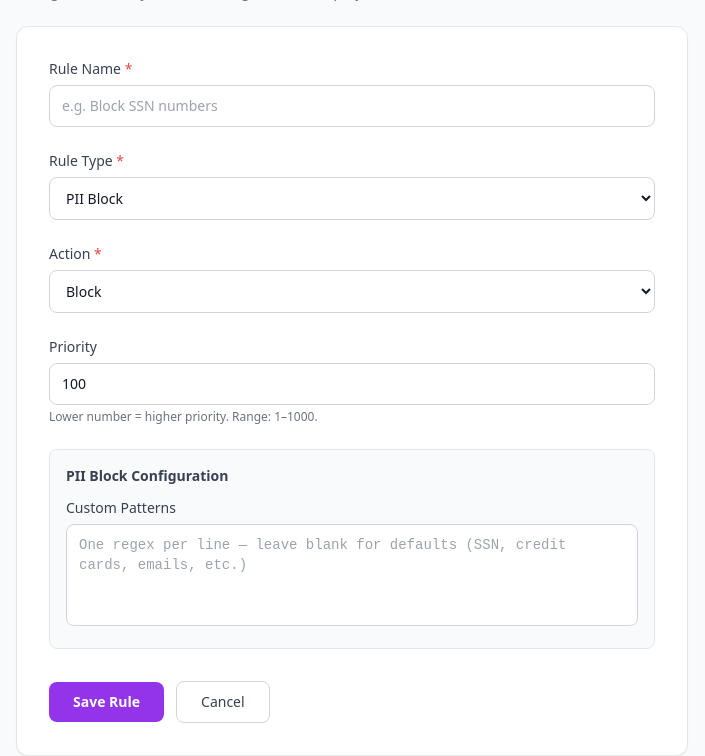
Test case: RuleBuilderPage › shows validation error when name empty
This screenshot has width=705, height=756.
(page scrolled)
Click the button "Save Rule": (106, 702) [49,682,164,722]
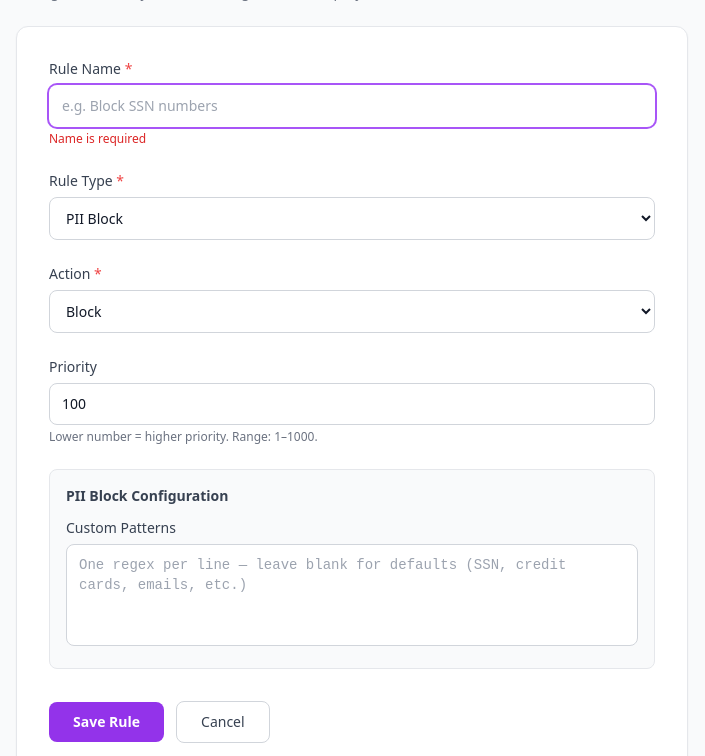
Result: the text "Name is required" is shown at [49,130,146,147]
